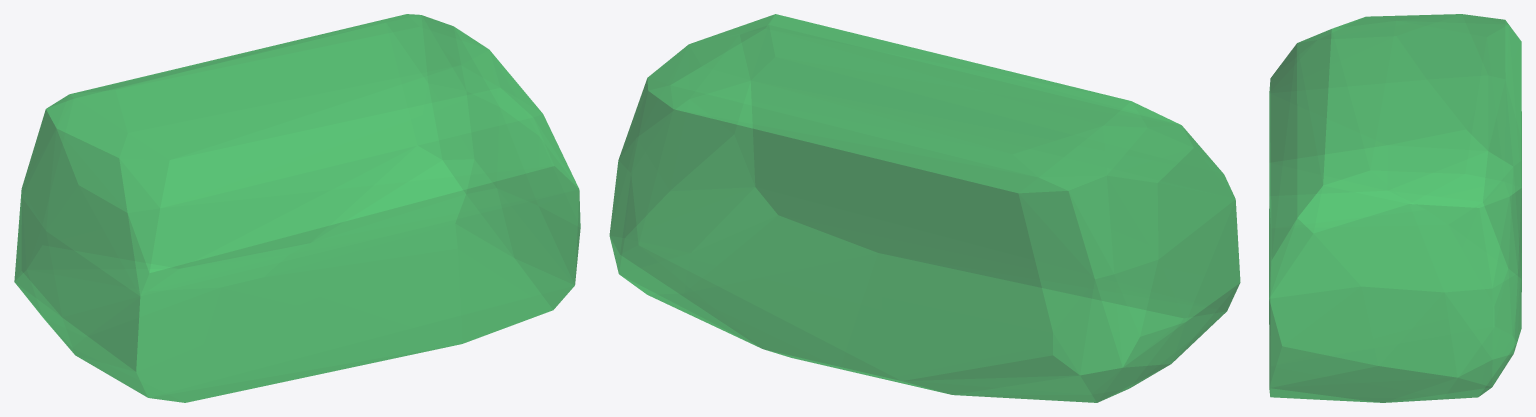
3 views of the same model, side by side, from view 1: azimuth 30°, elevation 25°; view 2: azimuth 150°, elevation 25°; view 3: azimuth 270°, elevation 25° (orthographic). The views are drawn at different scales.
Visible parts, largest first — view 1: Shape_IndexedFaceSet.001_Shape_IndexedFaceSet.15614; view 2: Shape_IndexedFaceSet.001_Shape_IndexedFaceSet.15614; view 3: Shape_IndexedFaceSet.001_Shape_IndexedFaceSet.15614.
Part boxes in pixels (bbox=[...]): Shape_IndexedFaceSet.001_Shape_IndexedFaceSet.15614: bbox=[14, 14, 580, 402]; Shape_IndexedFaceSet.001_Shape_IndexedFaceSet.15614: bbox=[609, 14, 1240, 402]; Shape_IndexedFaceSet.001_Shape_IndexedFaceSet.15614: bbox=[1269, 14, 1521, 402].
Size of the model in its own units: 1.06 by 0.4896 by 0.511.
